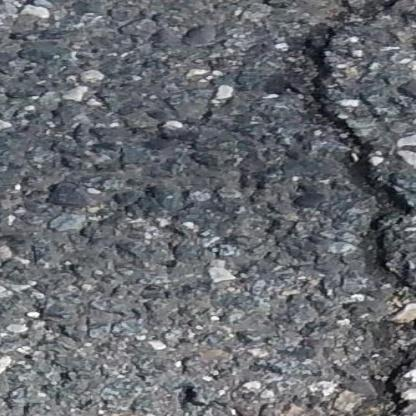Cracks: (294, 0, 416, 416)
